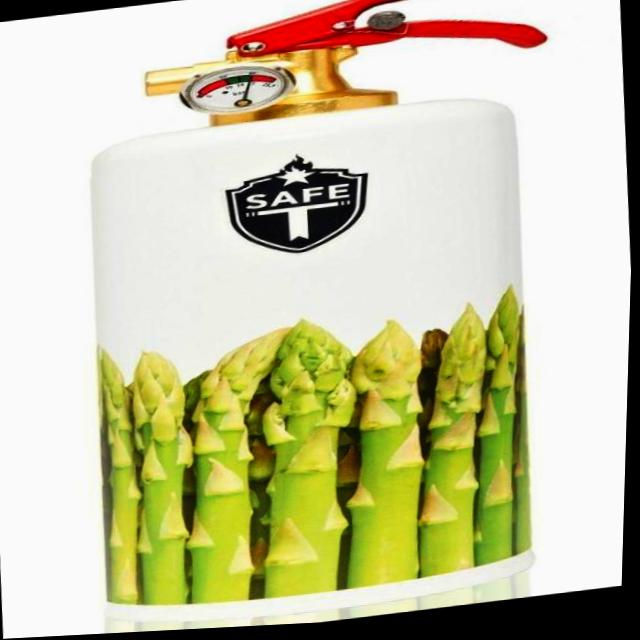FireExtinguisher: (47, 0, 589, 637)
